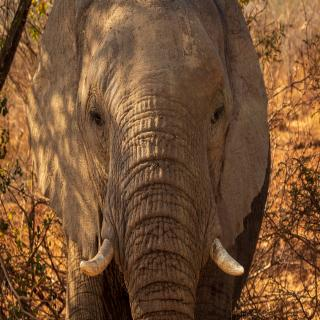Elephant: (24, 0, 280, 320)
